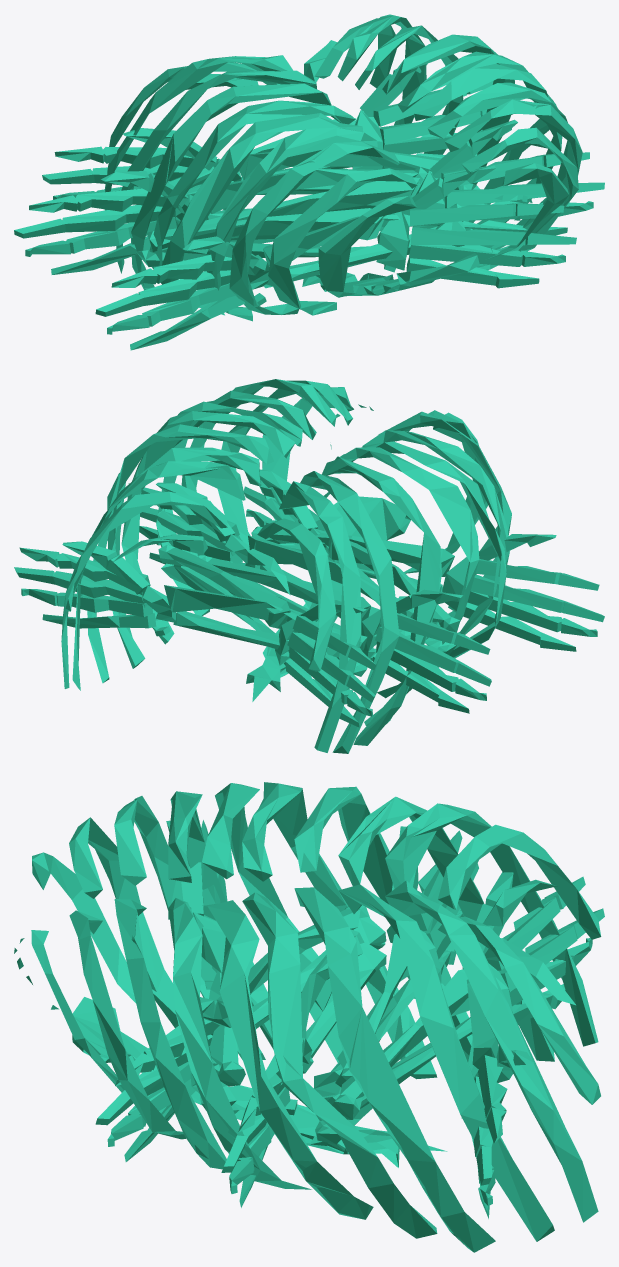
File: TowerMelee_.FBX
3 views of the same model, one above another, from view 1: azimuth 30°, elevation 25°; view 2: azimuth 150°, elevation 25°; view 3: azimuth 270°, elevation 25° (orthographic). The views are drawn at different scales.
Parts seen in each view (by area): view 1: Object002, Object005, Object003, Object001, Object006, Object004, Object007; view 2: Object002, Object007, Object003, Object001, Object004, Object006, Object005; view 3: Object002, Object004, Object005, Object006, Object001, Object007, Object003.
Boxes of the visible parts, bbox=[...] form: Object002: bbox=[104, 14, 582, 321]; Object005: bbox=[136, 165, 576, 288]; Object003: bbox=[95, 203, 472, 350]; Object001: bbox=[14, 167, 427, 274]; Object006: bbox=[202, 119, 604, 243]; Object004: bbox=[42, 128, 480, 223]; Object007: bbox=[168, 63, 511, 195]; Object002: bbox=[61, 379, 511, 753]; Object007: bbox=[14, 541, 367, 676]; Object003: bbox=[251, 526, 604, 651]; Object001: bbox=[201, 556, 491, 713]; Object004: bbox=[158, 544, 376, 727]; Object006: bbox=[128, 482, 414, 638]; Object005: bbox=[243, 469, 460, 654]; Object002: bbox=[14, 782, 601, 1252]; Object004: bbox=[315, 872, 604, 1144]; Object005: bbox=[95, 905, 386, 1161]; Object006: bbox=[221, 929, 386, 1207]; Object001: bbox=[314, 826, 478, 1097]; Object007: bbox=[454, 950, 533, 1218]; Object003: bbox=[166, 820, 245, 1110].
Bounding box in the file's own units: 1677 × 735 × 1264.
